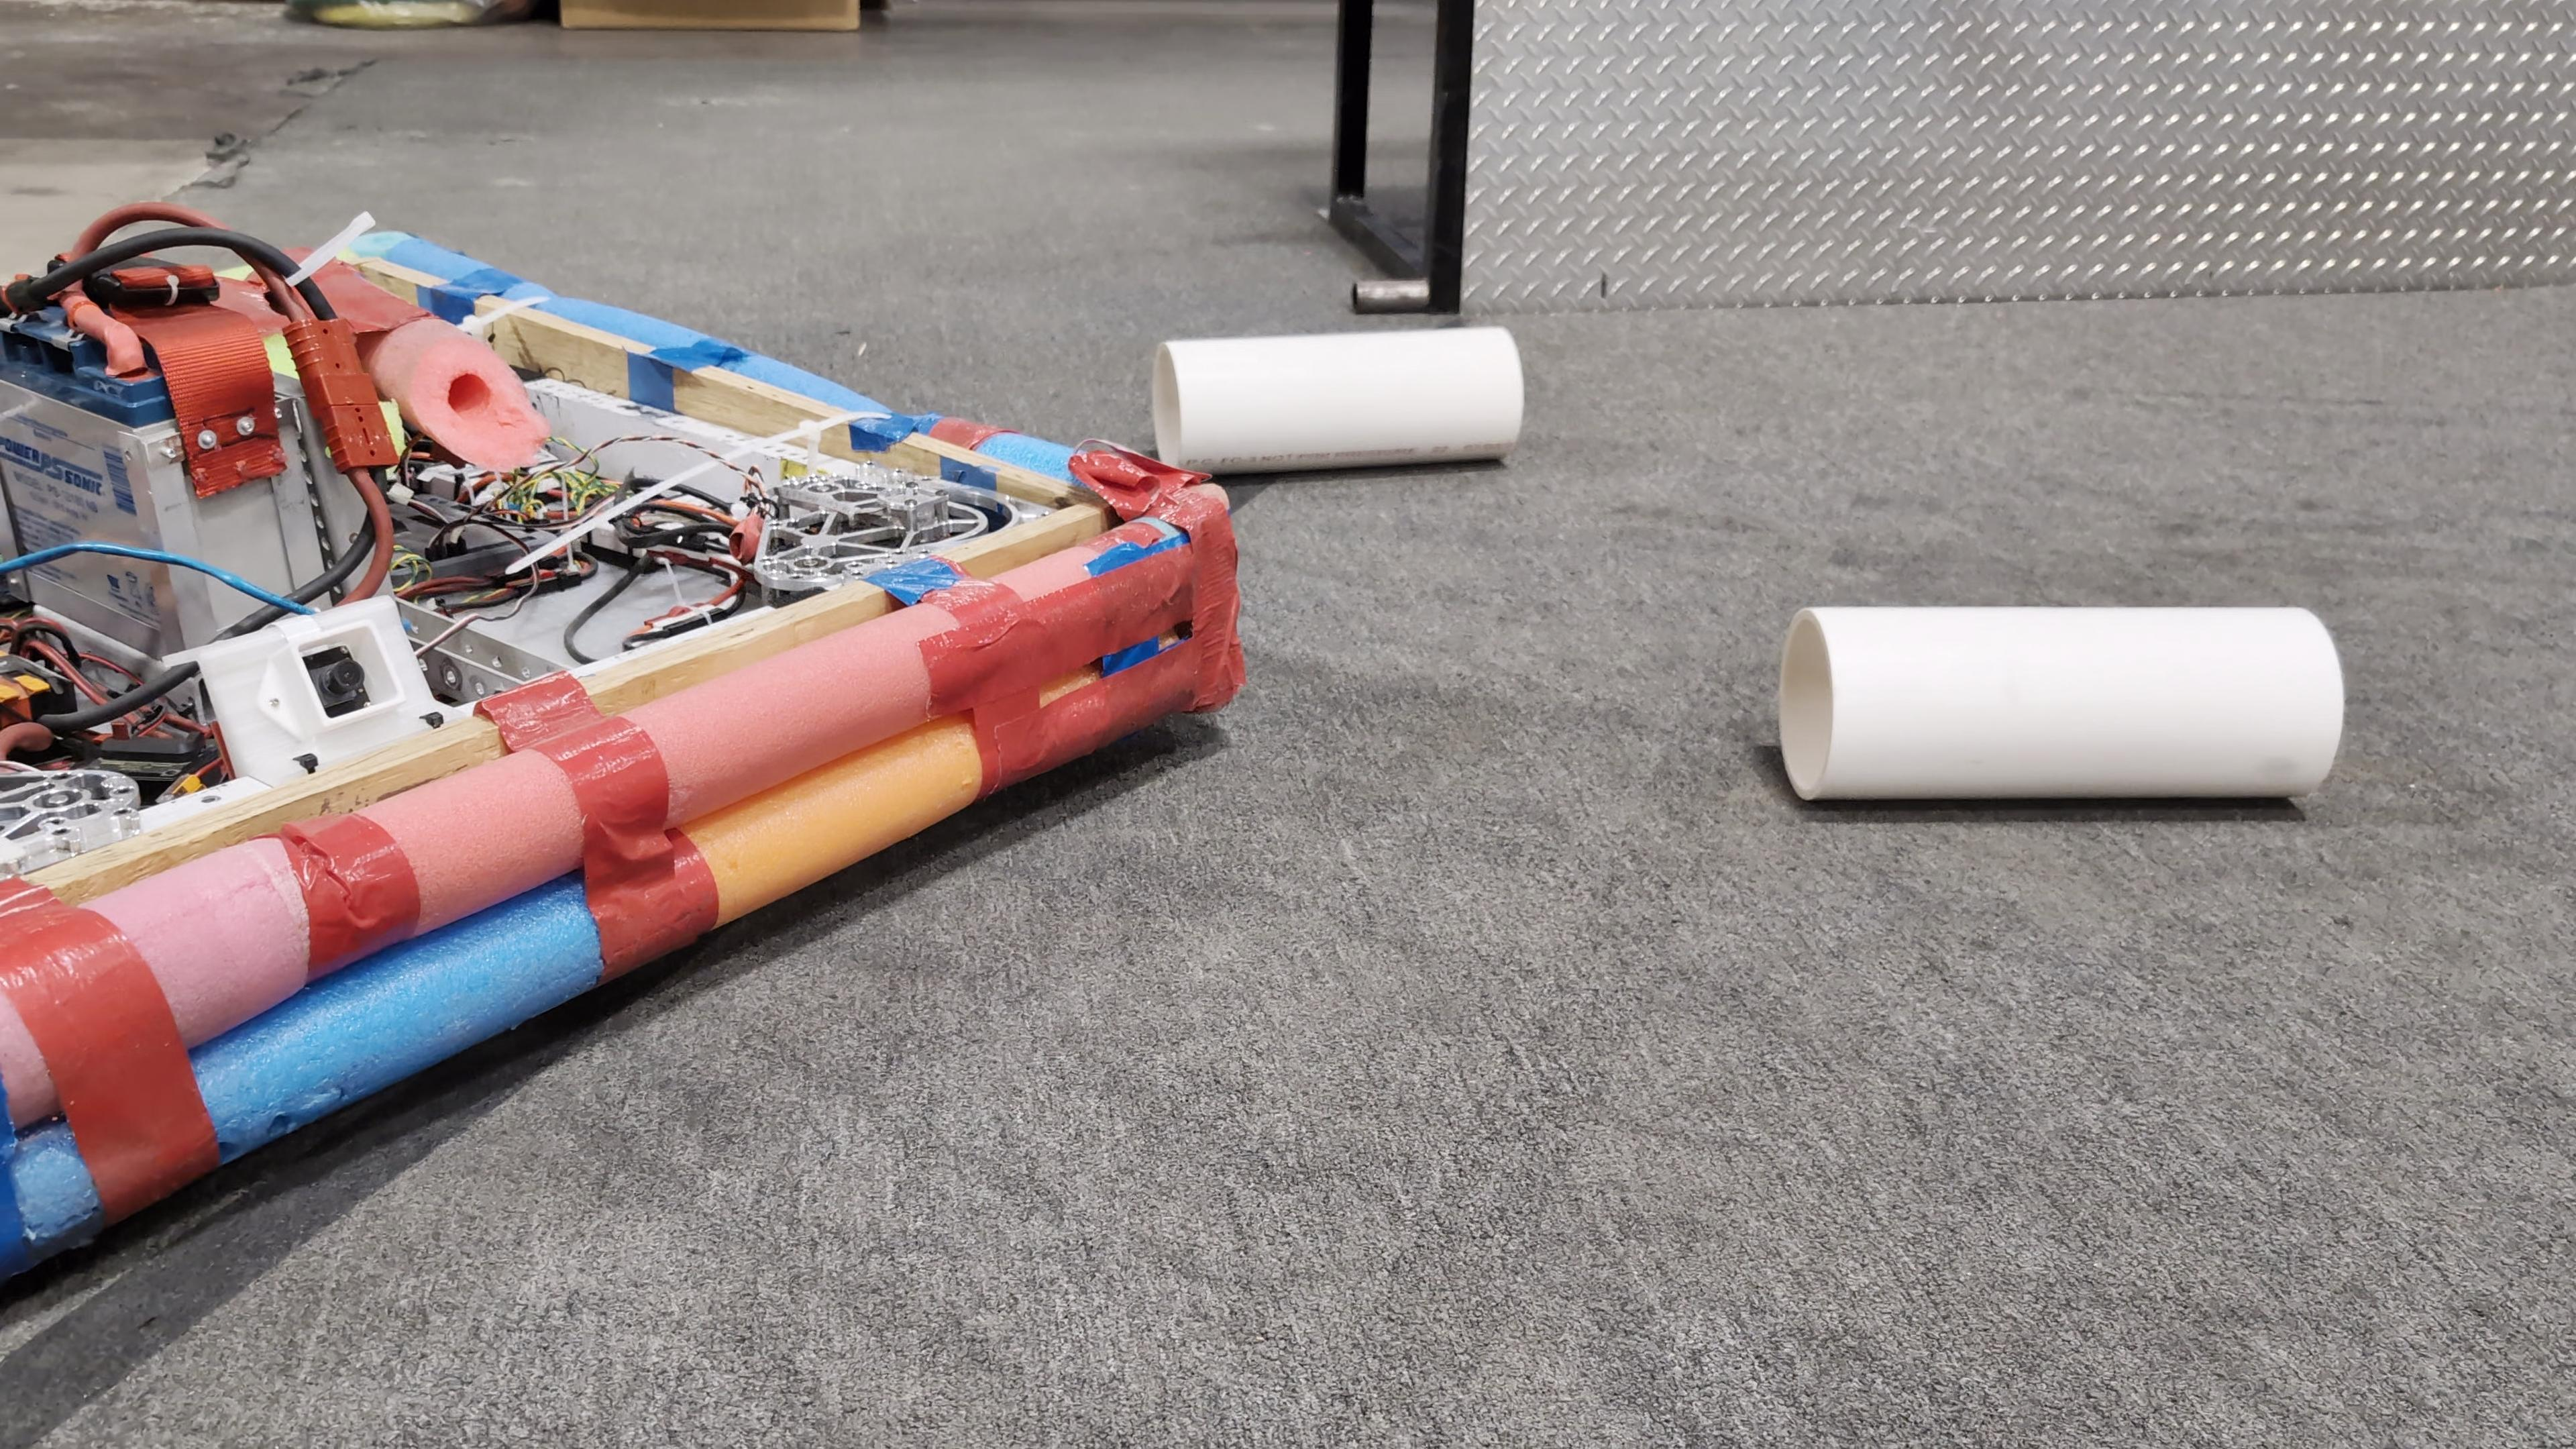coral: (1775, 600, 2346, 801), (1152, 318, 1523, 478)
